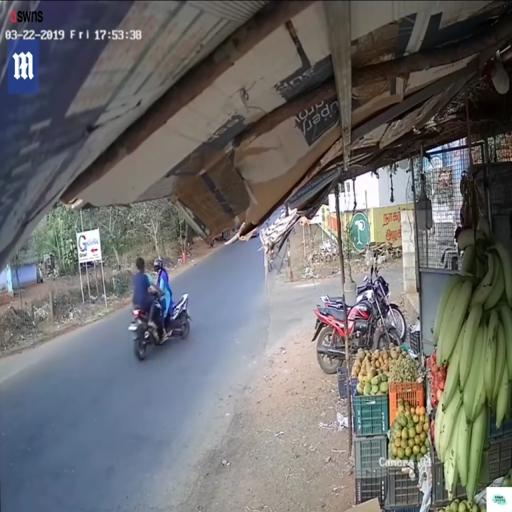自行车: (308, 296, 399, 382)
自行车撞自行车: (130, 257, 192, 356)
